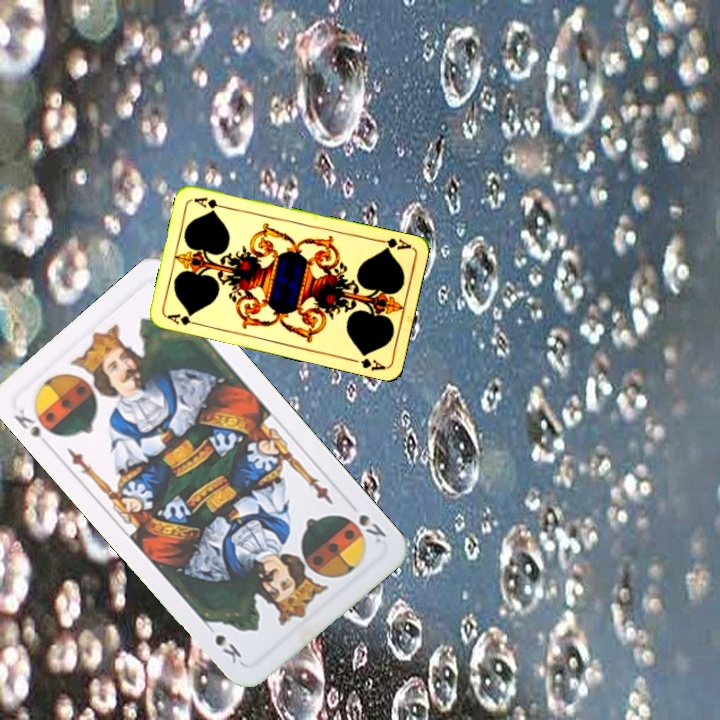GA: (373, 234, 414, 253), (163, 310, 203, 328)
SK: (9, 404, 60, 450), (344, 497, 389, 546)
